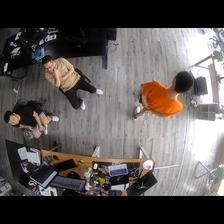normal: (133, 69, 192, 122)
